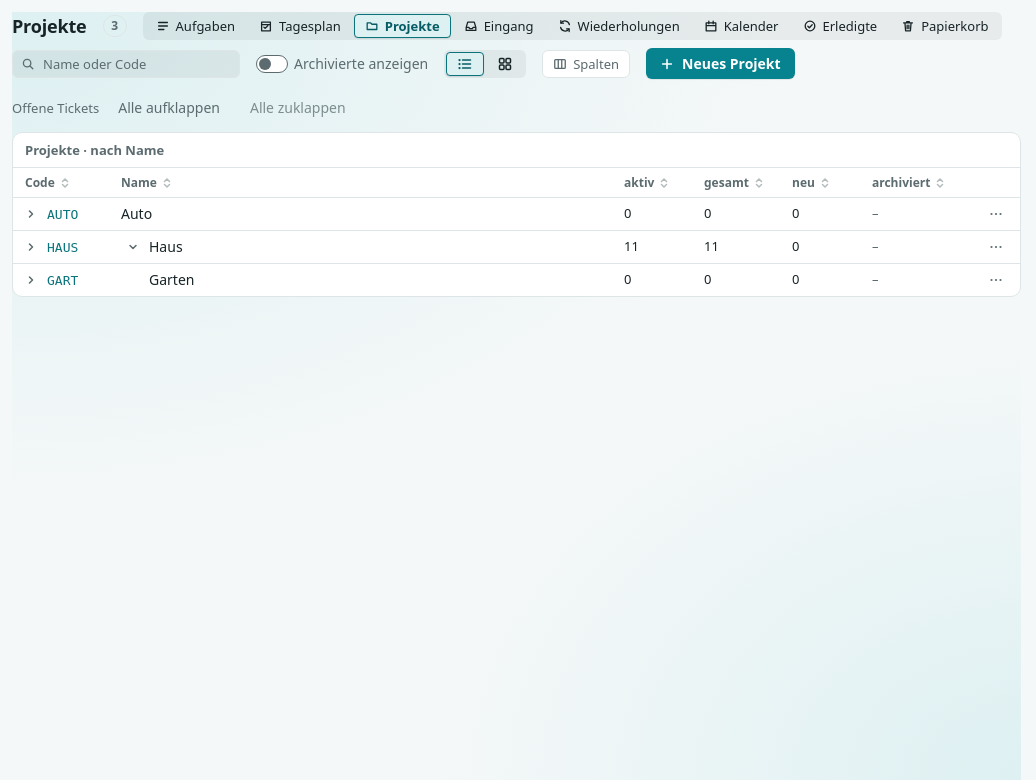
Scenario: open tickets in the project list › links a parent with more than ten to its own tickets in "Aufgaben"
This screenshot has width=1036, height=780.
Click the button named "Offene Tickets von „Haus“". click: (31, 247)
box: [19,235,43,259]
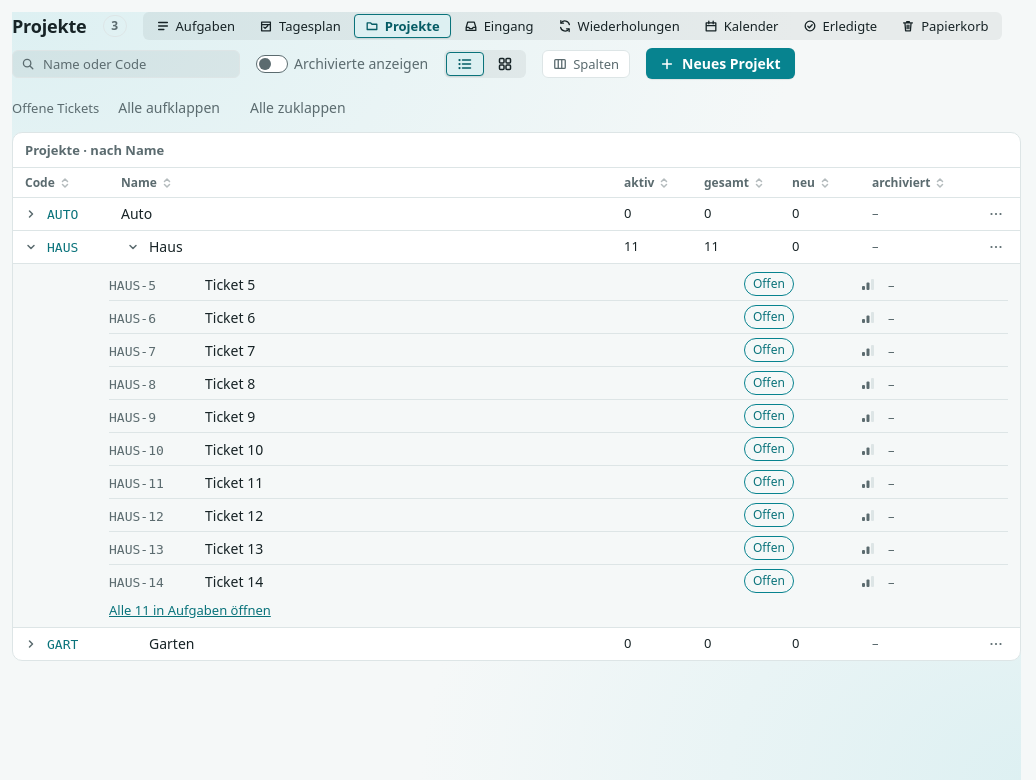
Now the number of list items is 10
